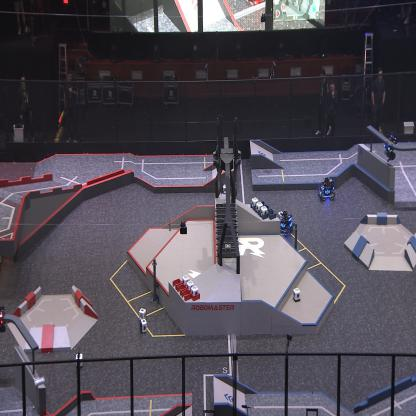car: (316, 176, 336, 201), (278, 207, 294, 236)
